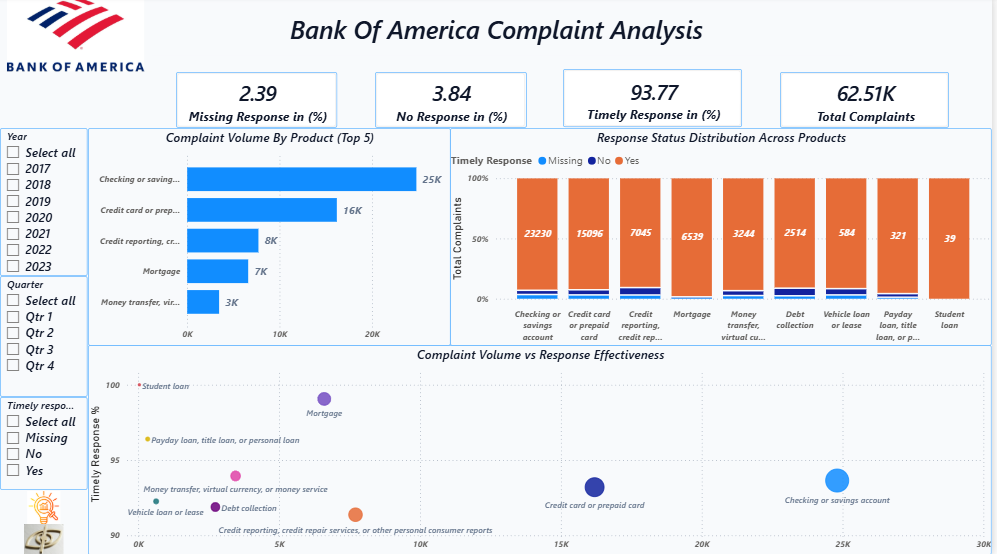

The dashboard page shown, as its layout file describes it:
{"tool":"powerbi","page":{"name":"Service Performance & Response Effectiveness","canvas":[1280,720],"ordinal":2},"visuals":[{"type":"cardVisual","fields":{"Data":["Dax Measures.Total Complaints"]},"box":[1006.3,96.4,218.3,72.3],"z":0},{"type":"cardVisual","fields":{"Data":["Dax Measures.Timely Response %"]},"box":[727.1,93.5,231,75.1],"z":1000},{"type":"cardVisual","fields":{"Data":["Dax Measures.Missing Response%"]},"box":[226.8,96.4,208.3,72.3],"z":5000},{"type":"textbox","box":[180.1,14.2,919.8,60.9],"z":7000},{"type":"image","box":[0,0,195.6,96.4],"z":8000},{"type":"cardVisual","fields":{"Data":["Dax Measures.No Response %"]},"box":[483.3,96.4,195.6,72.3],"z":9000},{"type":"clusteredBarChart","title":"Complaint Volume By Product (Top 5)","fields":{"Category":["Complaint Data.Product"],"Y":["CountNonNull(Complaint Data.Complaint ID)"]},"box":[113.4,168.7,467.7,280.6],"z":10000},{"type":"scatterChart","title":"Complaint Volume vs Response Effectiveness","fields":{"X":["Dax Measures.Total Complaints"],"Size":["Dax Measures.Total Complaints"],"Series":["Complaint Data.Product"],"Y":["Dax Measures.Timely Response %"]},"box":[113.4,449.3,1166.5,270.7],"z":11000},{"type":"hundredPercentStackedColumnChart","title":"Response Status Distribution Across Products","fields":{"Category":["Complaint Data.Product"],"Series":["Complaint Data.Timely response?"],"Y":["Dax Measures.Total Complaints"]},"box":[581.1,168.7,698.7,280.6],"z":12000},{"type":"slicer","fields":{"Values":["Complaint Data.Timely response?"]},"box":[0,515.9,113.4,120.5],"z":13000},{"type":"slicer","fields":{"Values":["Complaint Data.Date submitted.Variation.Date Hierarchy.Year"]},"box":[0,168.7,113.4,191.3],"z":14000},{"type":"slicer","fields":{"Values":["Complaint Data.Date submitted.Variation.Date Hierarchy.Quarter"]},"box":[0,360,113.4,155.9],"z":15000},{"type":"image","box":[0,637,113.1,43.2],"z":18000},{"type":"image","box":[0,680.2,113.1,40.2],"z":19000}]}

Visuals, with their boxes in screenshot pixels (x1, y1, x2, y2), scaled from the page's 1280x720 canvas onto the 997x554 screenshot:
cardVisual - Dax Measures.Total Complaints: select_region(784, 74, 954, 130)
cardVisual - Dax Measures.Timely Response %: select_region(566, 72, 746, 130)
cardVisual - Dax Measures.Missing Response%: select_region(177, 74, 339, 130)
textbox: select_region(140, 11, 857, 58)
image: select_region(0, 0, 152, 74)
cardVisual - Dax Measures.No Response %: select_region(376, 74, 529, 130)
"Complaint Volume By Product (Top 5)" clusteredBarChart: select_region(88, 130, 453, 346)
"Complaint Volume vs Response Effectiveness" scatterChart: select_region(88, 346, 996, 553)
"Response Status Distribution Across Products" hundredPercentStackedColumnChart: select_region(453, 130, 996, 346)
slicer - Complaint Data.Timely response?: select_region(0, 397, 88, 490)
slicer - Complaint Data.Date submitted.Variation.Date Hierarchy.Year: select_region(0, 130, 88, 277)
slicer - Complaint Data.Date submitted.Variation.Date Hierarchy.Quarter: select_region(0, 277, 88, 397)
image: select_region(0, 490, 88, 523)
image: select_region(0, 523, 88, 553)
